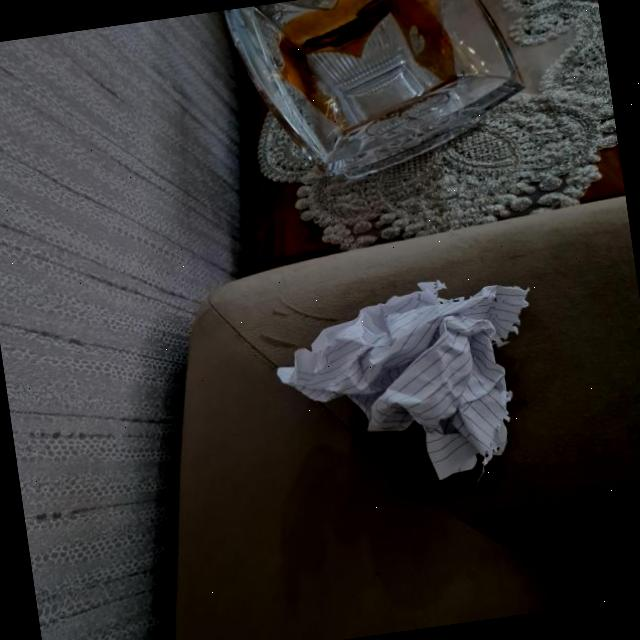trash: (268, 265, 562, 500)
